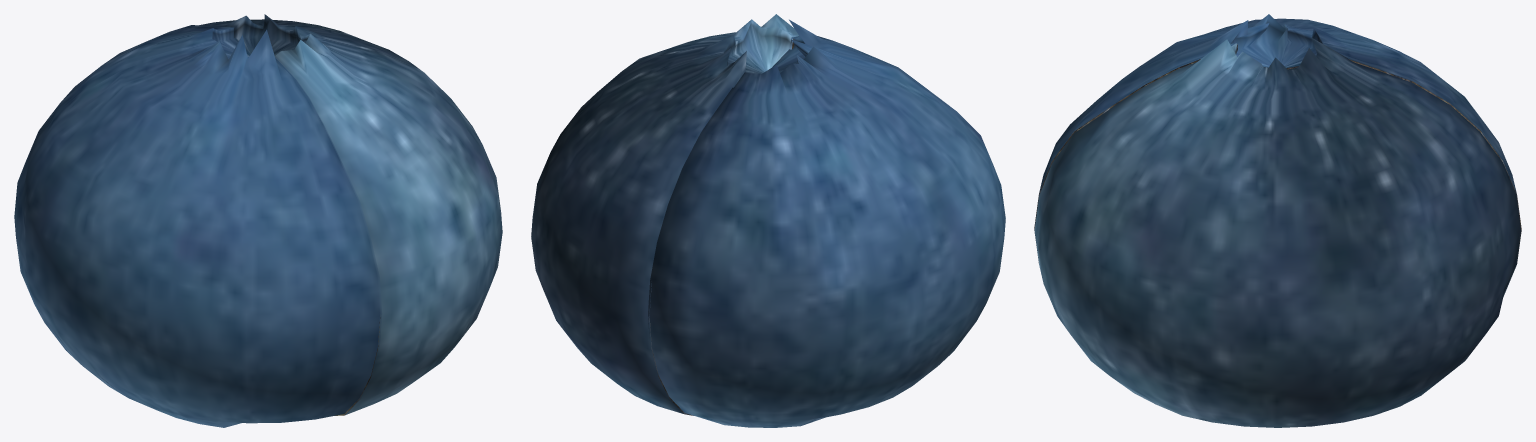
The model's file is Голубка.fbx.
The picture shows the model from 3 angles, left to right: view 1: azimuth 30°, elevation 25°; view 2: azimuth 150°, elevation 25°; view 3: azimuth 270°, elevation 25°; orthographic projection. The views are drawn at different scales.
Visible parts, largest first — view 1: Сфера, Сфера.001; view 2: Сфера, Сфера.001; view 3: Сфера.001, Сфера.
Part boxes in pixels (bbox=[...]): Сфера: bbox=[14, 25, 382, 427]; Сфера.001: bbox=[199, 14, 502, 415]; Сфера: bbox=[648, 19, 1005, 427]; Сфера.001: bbox=[531, 14, 798, 415]; Сфера.001: bbox=[1034, 37, 1521, 427]; Сфера: bbox=[1034, 14, 1521, 263].
Size of the model in its own units: 129 by 111 by 130.
Materials: 4 (4 with a texture image).
